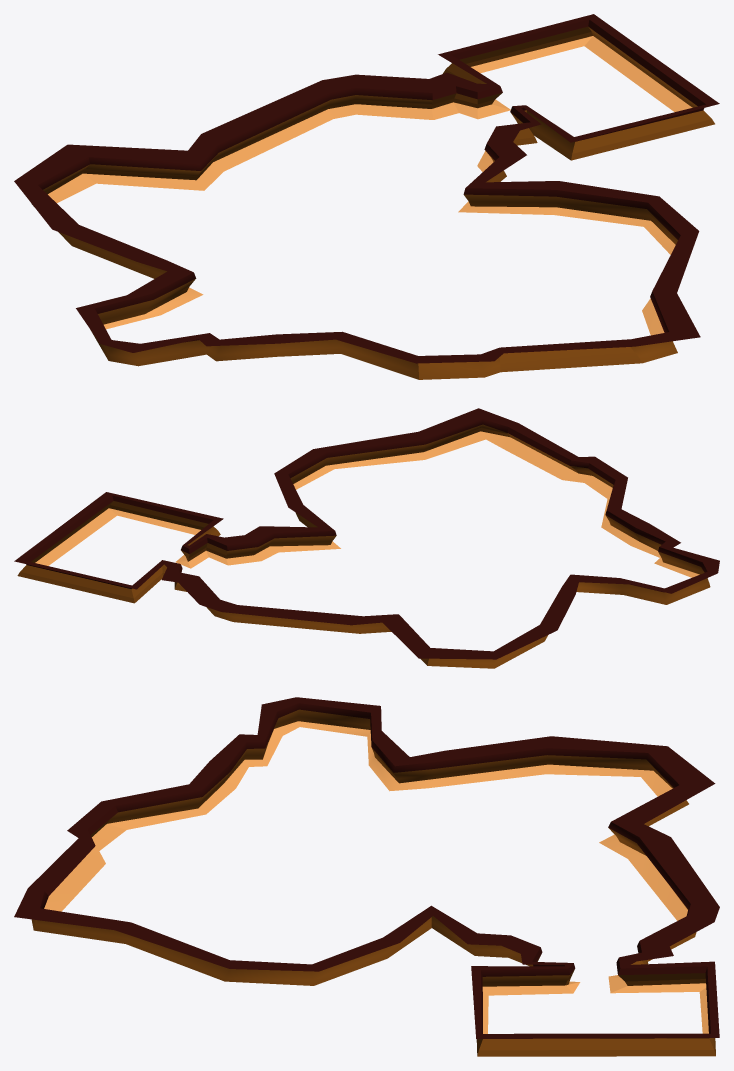
The model's file is Limites.fbx.
3 renders of one model, top to bottom at view 1: azimuth 30°, elevation 25°; view 2: azimuth 150°, elevation 25°; view 3: azimuth 270°, elevation 25°, orthographic. The views are drawn at different scales.
Parts seen in each view (by area): view 1: Plane001; view 2: Plane001; view 3: Plane001.
Part boxes in pixels (x1,y1,x2,y2): Plane001: [14, 14, 719, 379]; Plane001: [14, 408, 719, 668]; Plane001: [14, 697, 719, 1056].
Bounding box in the file's own units: 14958 × 442 × 13052.
